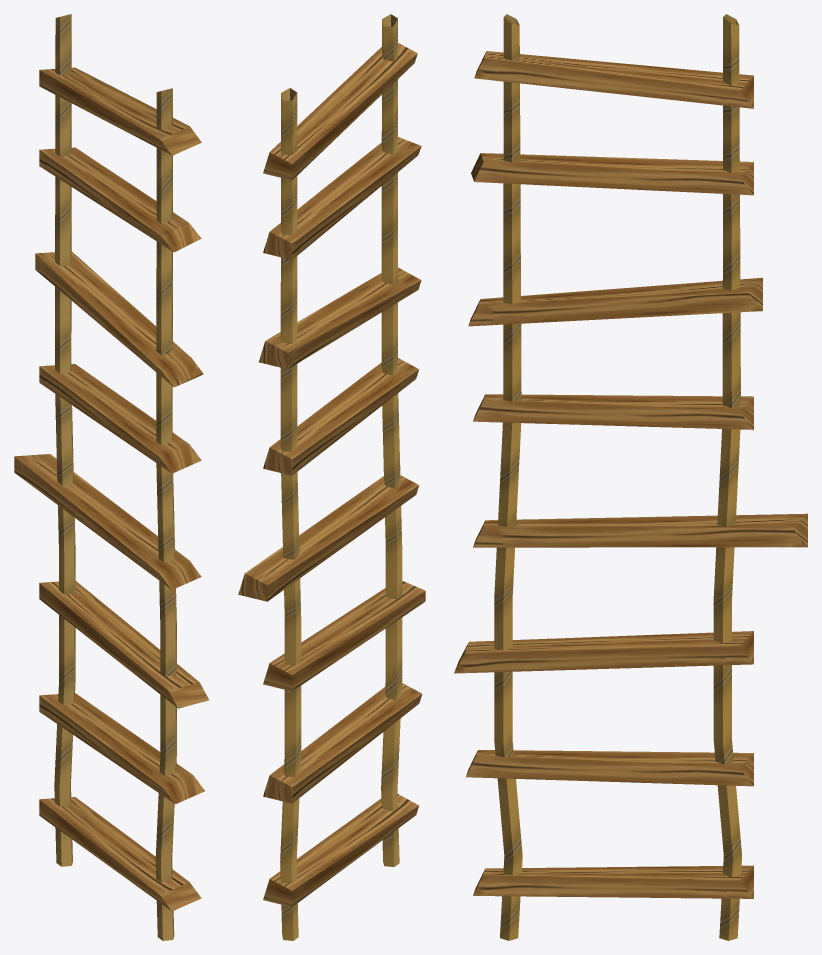
Rendered from Ladder01.fbx.
The picture shows the model from 3 angles, left to right: view 1: azimuth 30°, elevation 25°; view 2: azimuth 150°, elevation 25°; view 3: azimuth 270°, elevation 25°; orthographic projection. The views are drawn at different scales.
Parts seen in each view (by area): view 1: Ladder01; view 2: Ladder01; view 3: Ladder01.
Part boxes in pixels (x1=…): Ladder01: x1=14, y1=14, x2=208, y2=940; Ladder01: x1=238, y1=14, x2=425, y2=940; Ladder01: x1=454, y1=14, x2=807, y2=940.
Size of the model in its own units: 4.83 by 105 by 36.63.
